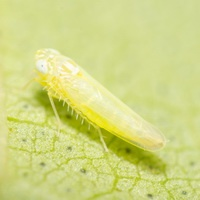insect: (35, 48, 165, 150)
